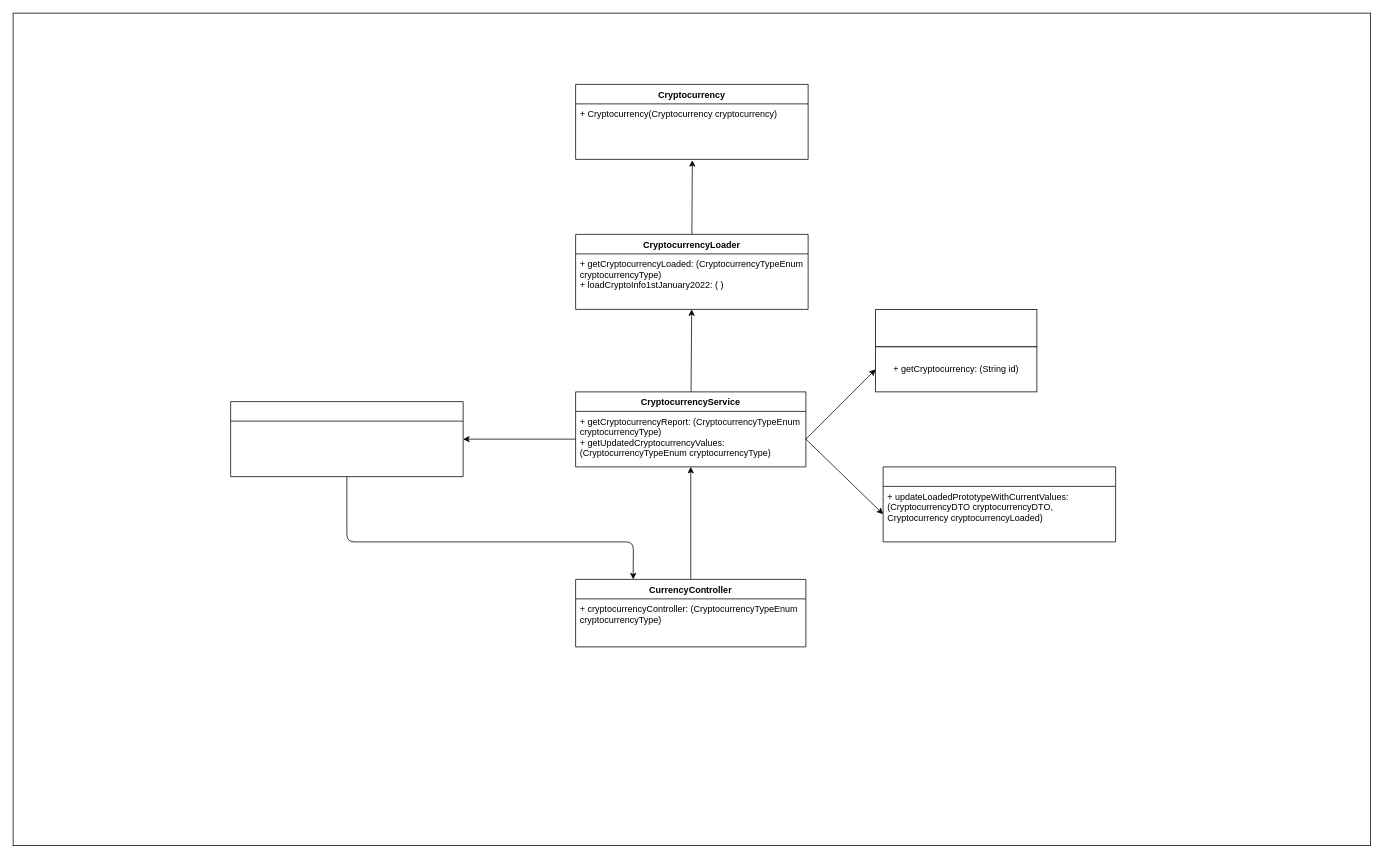
Some shapes in this 1384 by 859 pixel diagram are drawn without their labels. Here are the shapes that lost their labels. From the top down, the box of each, then its label:
(875, 309, 1037, 347): «interface» CryptocurrencyClient
(230, 401, 463, 477): CryptocurrencyReport
(882, 466, 1116, 542): CryptocurrencyMapper
